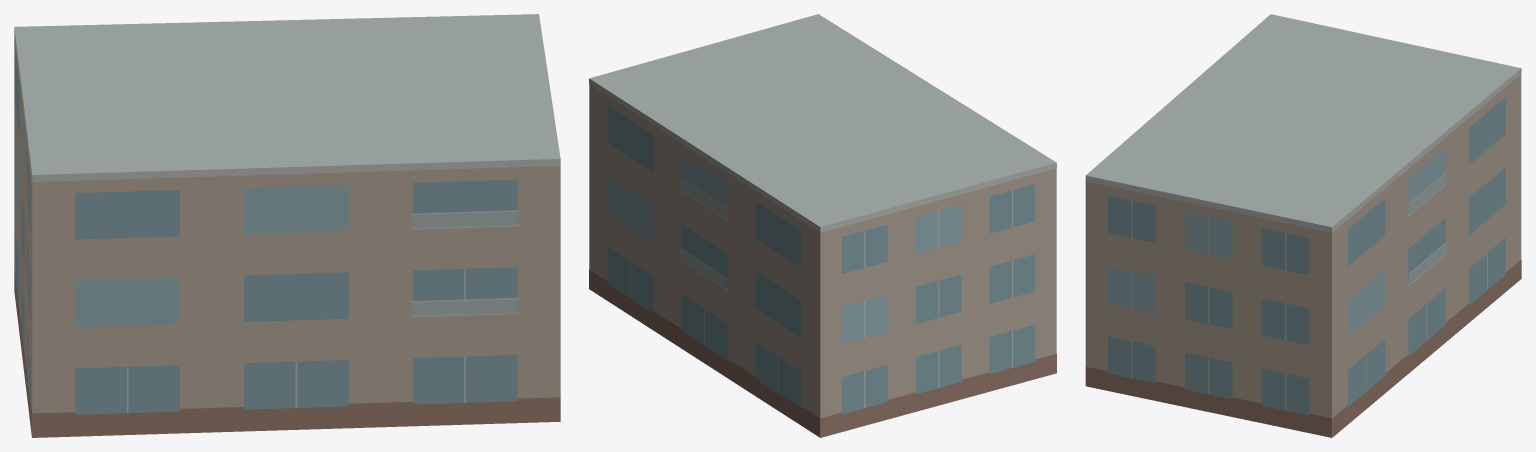
The model's file is survey-upis-32842162.glb.
The picture shows the model from 3 angles, left to right: view 1: azimuth 30°, elevation 25°; view 2: azimuth 150°, elevation 25°; view 3: azimuth 270°, elevation 25°; orthographic projection. The views are drawn at different scales.
Visible parts, largest first — view 1: survey-upis-32842162.tmp; view 2: survey-upis-32842162.tmp; view 3: survey-upis-32842162.tmp.
Boxes of the visible parts, bbox=[...] form: survey-upis-32842162.tmp: bbox=[14, 14, 560, 437]; survey-upis-32842162.tmp: bbox=[589, 14, 1056, 437]; survey-upis-32842162.tmp: bbox=[1085, 14, 1521, 437].
Bounding box in the file's own units: 19.87 × 9.15 × 17.16.
